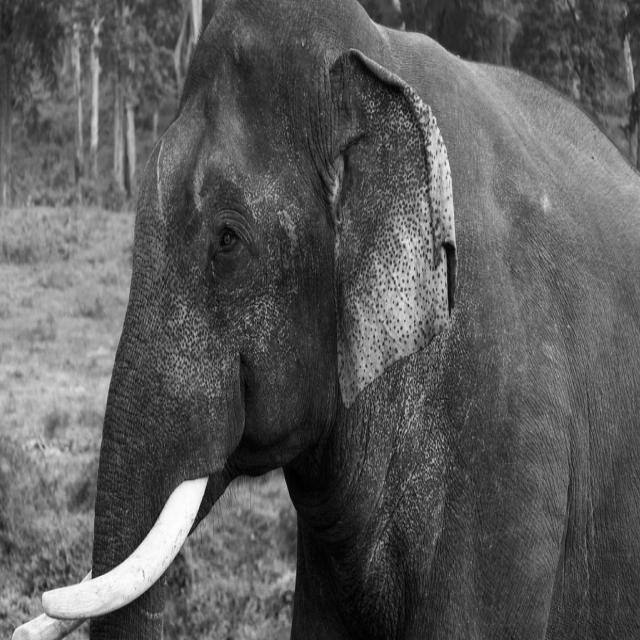Elephant: (19, 0, 639, 639)
